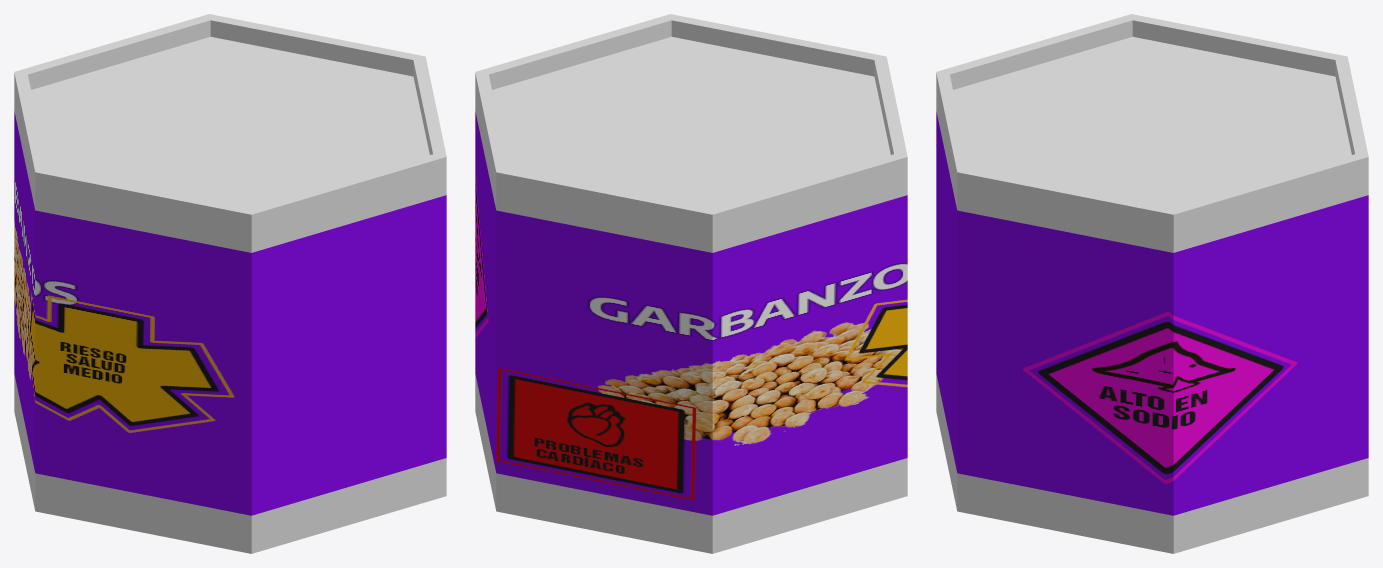
The model's file is garbanzos.fbx.
3 renders of one model, left to right at view 1: azimuth 30°, elevation 25°; view 2: azimuth 150°, elevation 25°; view 3: azimuth 270°, elevation 25°, orthographic.
Parts seen in each view (by area): view 1: Arvejas; view 2: Arvejas; view 3: Arvejas.
Boxes of the visible parts, x1,y1,x2,y2 form: Arvejas: [14, 14, 446, 553]; Arvejas: [475, 14, 907, 553]; Arvejas: [936, 14, 1368, 553].
Size of the model in its own units: 5.52 by 4.35 by 5.02.
2 materials, 1 textured.
